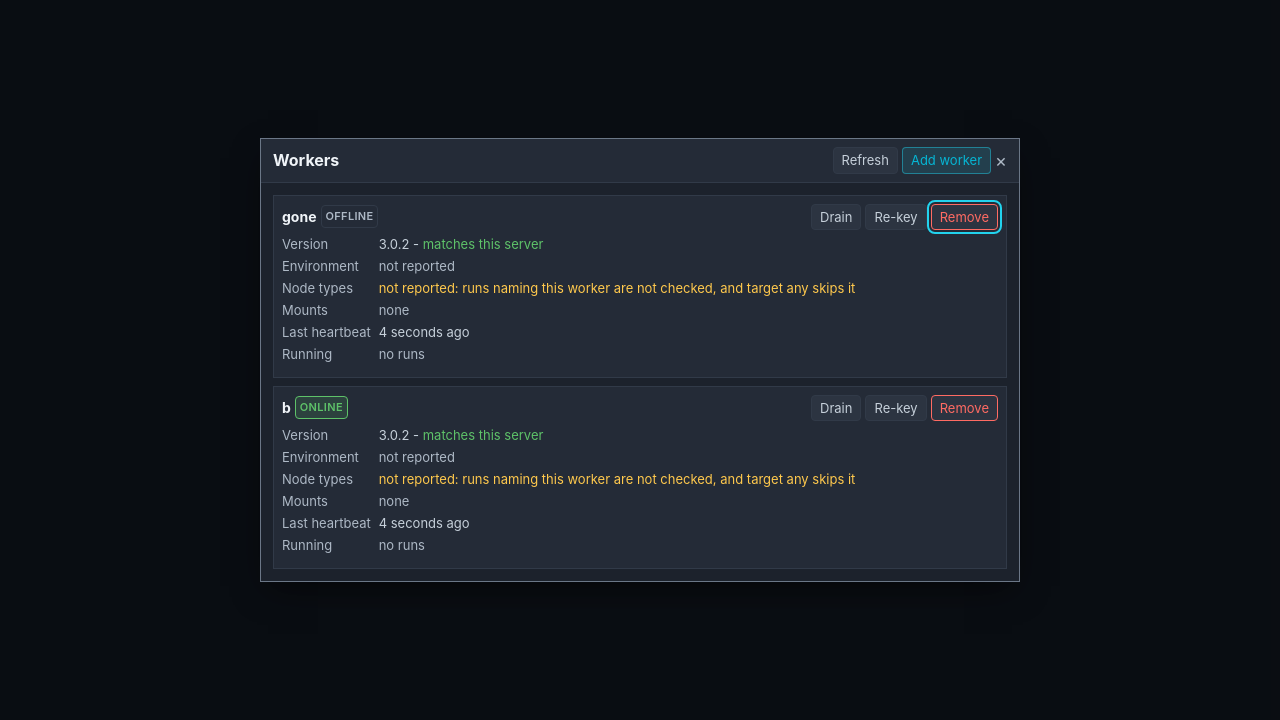
WorkersPanel › asks again before removing a worker that is away too (#840 review)
Expected: the text "Offline" is shown, [320, 205, 378, 228]
Click the button "Remove" in the row of "Offline" at [964, 217], box [931, 204, 998, 230]
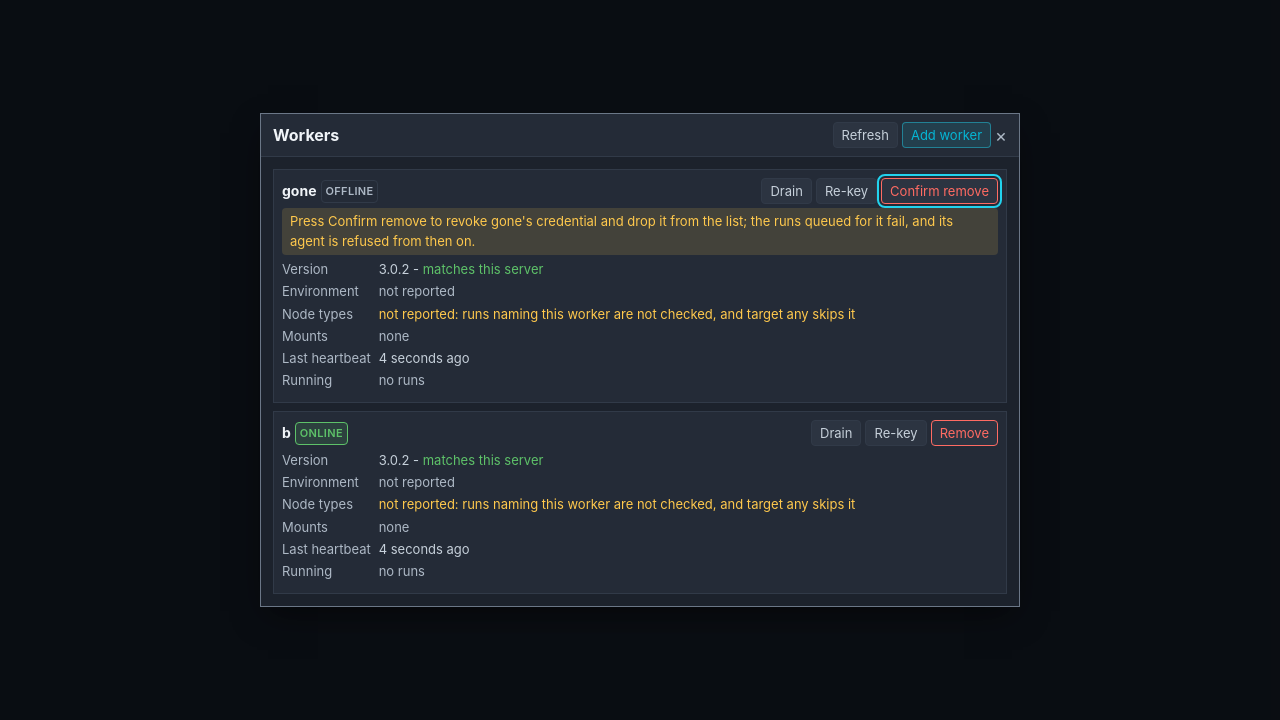
Expected: the button "Confirm remove" is shown
Expected: the message shows "revoke gone's credential", [290, 213, 953, 249]
Click the button "Confirm remove" at [940, 191], box [881, 178, 998, 204]
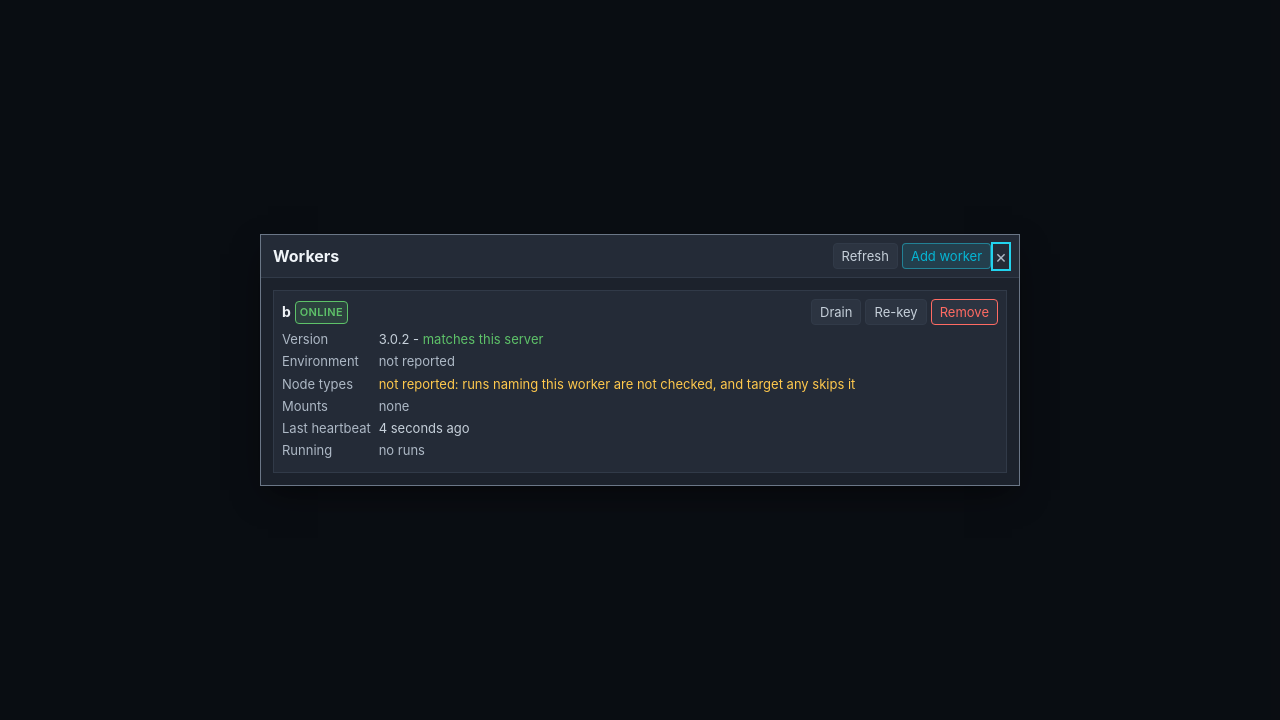
Expected: the heading "gone" is gone
